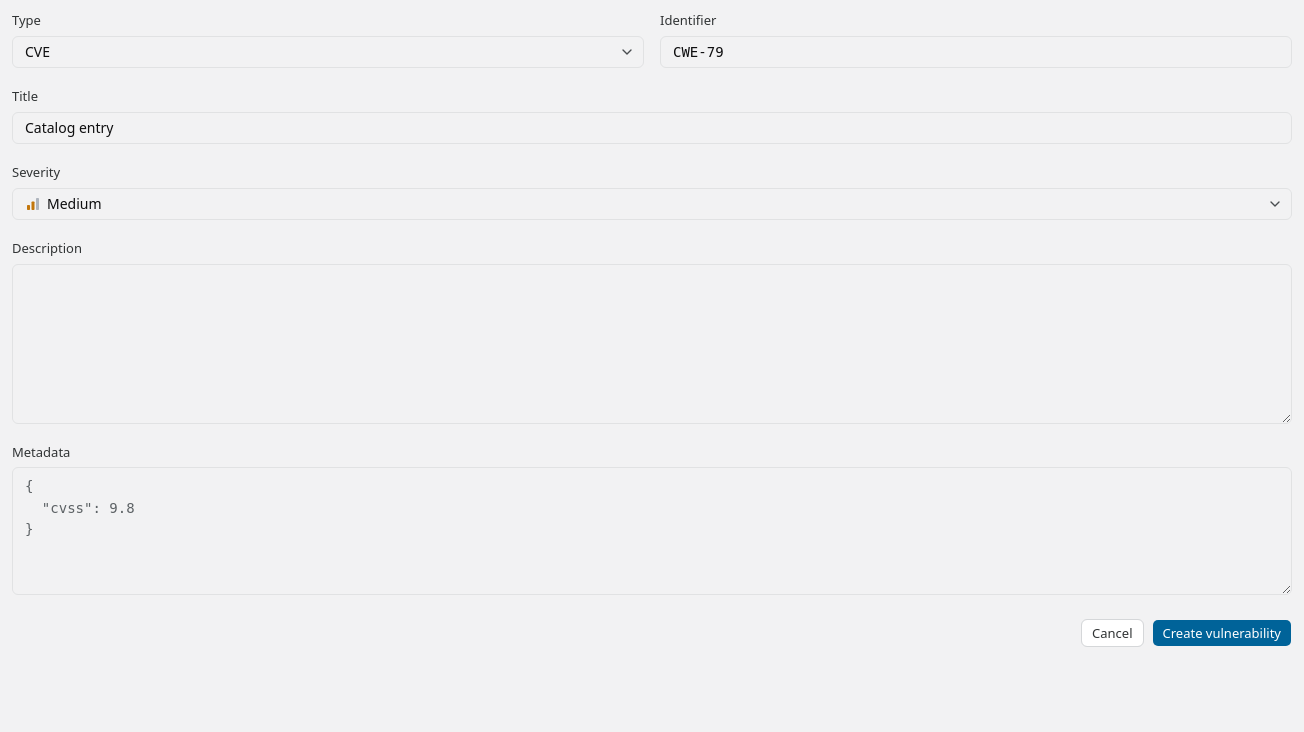
VulnerabilityForm › validates cve identifiers using the shared catalog contract
Click the button "Create vulnerability": (1222, 633) top-left (1152, 619), bottom-right (1292, 647)
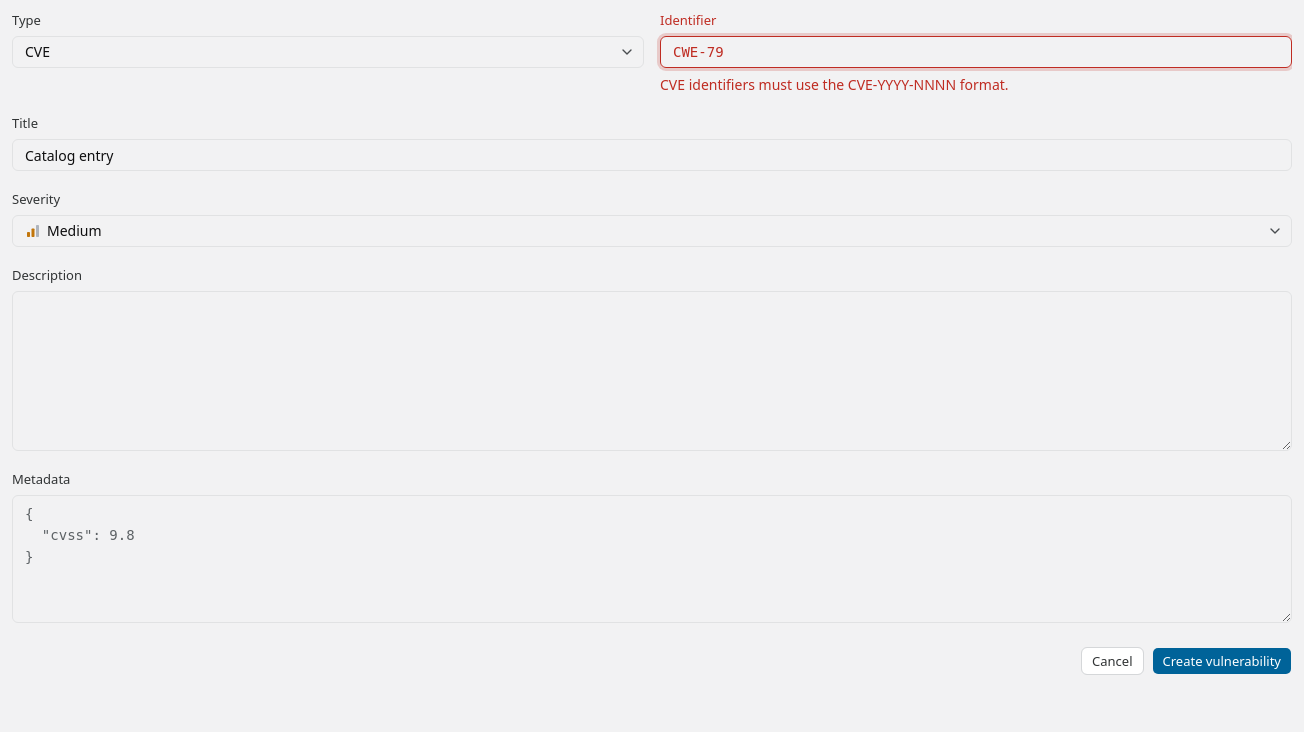
Now the text "CVE identifiers must use the CVE-YYYY-NNNN format." is shown, box top-left (660, 75), bottom-right (1009, 94)
